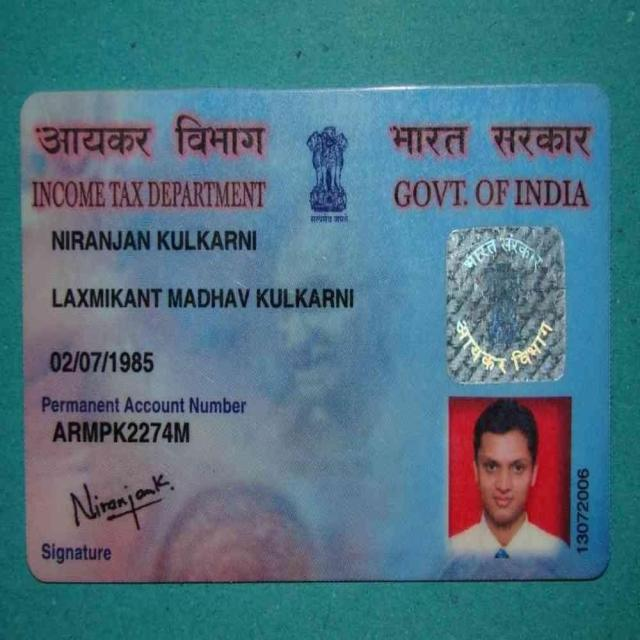pan_card: (18, 89, 611, 576)
